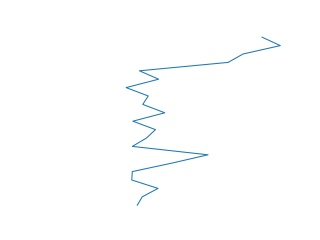crevasseRiverChannelBar: (122, 34, 285, 207)
